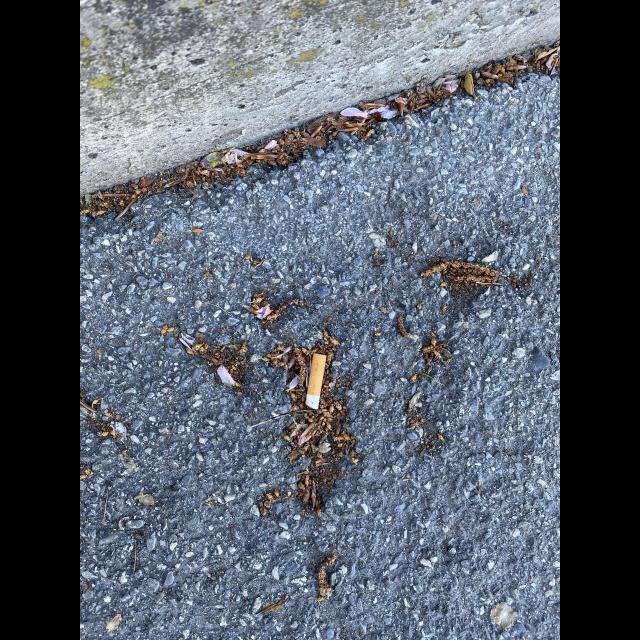cigarette: (305, 354, 326, 410)
